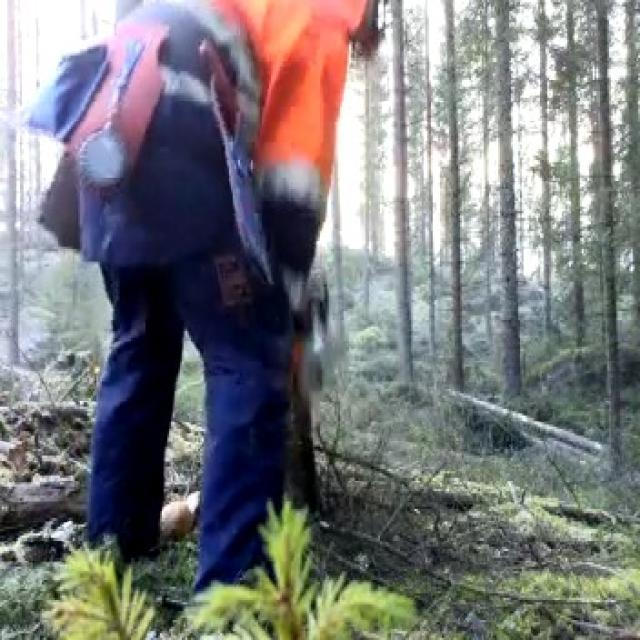Chainsaw: (277, 263, 355, 400)
